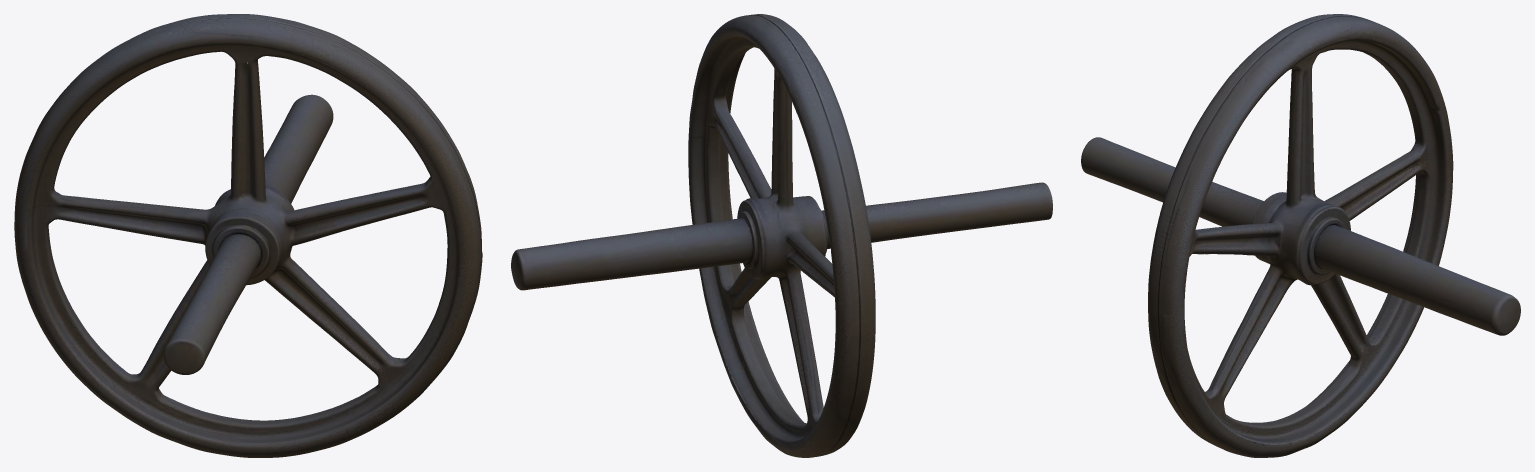
The model's file is wheel-axle.glb.
3 views of the same model, side by side, from view 1: azimuth 30°, elevation 25°; view 2: azimuth 150°, elevation 25°; view 3: azimuth 270°, elevation 25° (orthographic). The views are drawn at different scales.
Parts seen in each view (by area): view 1: tripo_node_a8519c5e-79c3-4431-9614-8c5b516a2df6; view 2: tripo_node_a8519c5e-79c3-4431-9614-8c5b516a2df6; view 3: tripo_node_a8519c5e-79c3-4431-9614-8c5b516a2df6.
Part boxes in pixels (box(x1,y1,x2,y2)): tripo_node_a8519c5e-79c3-4431-9614-8c5b516a2df6: box(14, 14, 482, 457); tripo_node_a8519c5e-79c3-4431-9614-8c5b516a2df6: box(511, 14, 1052, 457); tripo_node_a8519c5e-79c3-4431-9614-8c5b516a2df6: box(1081, 14, 1520, 457).
Size of the model in its own units: 0.8785 by 0.9795 by 0.9412.
1 material, 1 textured.
